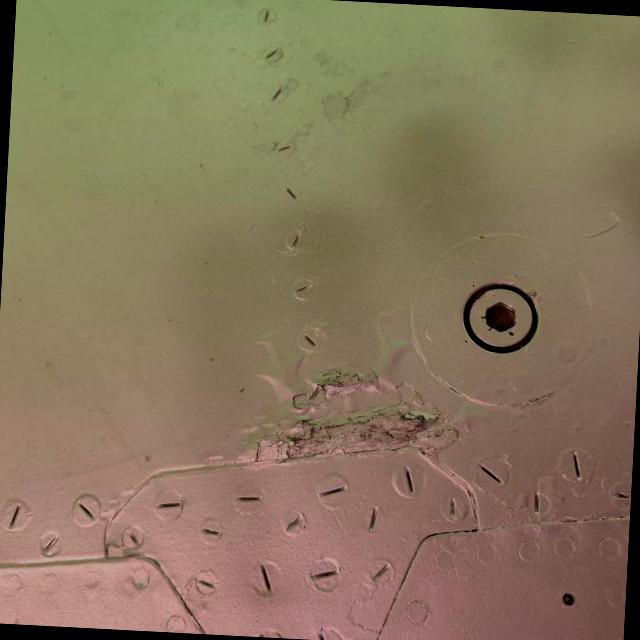paint-off: (242, 354, 472, 486)
